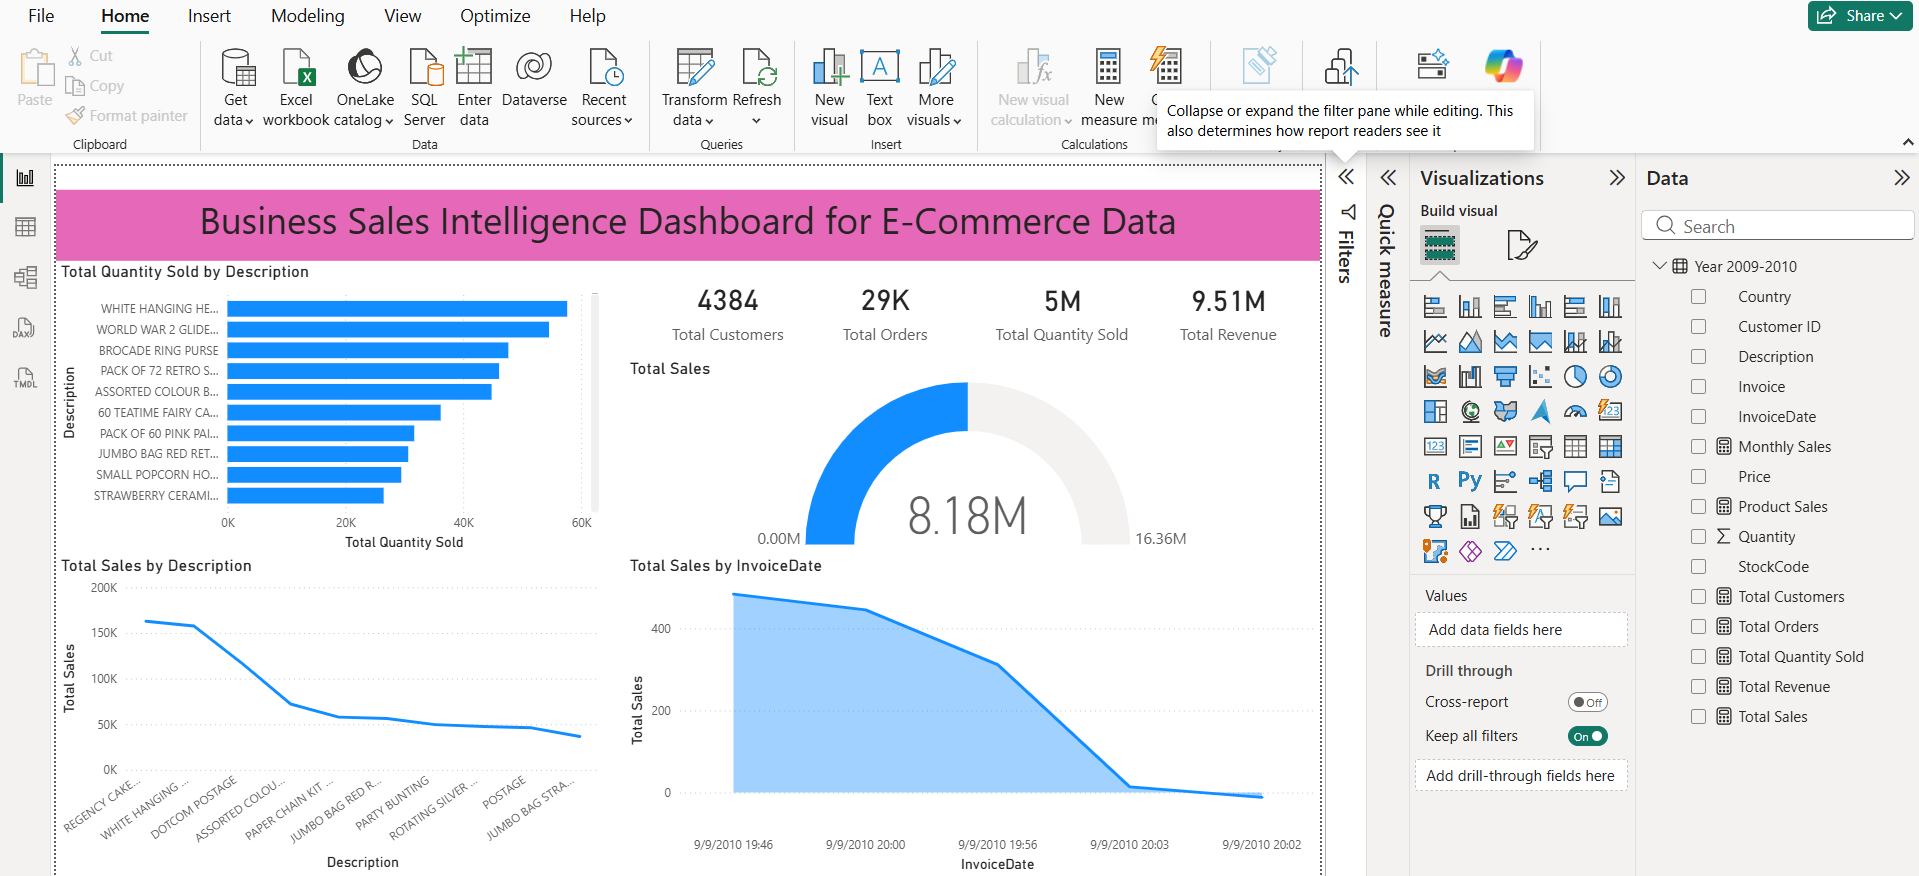

This screenshot's page, from the dashboard's own definition file:
{"tool":"powerbi","page":{"name":"Page 1","canvas":[1280,720],"ordinal":0},"visuals":[{"type":"card","fields":{"Values":["Year 2009-2010.Total Revenue"]},"box":[1095,96.3,185,99.3],"z":0},{"type":"card","fields":{"Values":["Year 2009-2010.Total Quantity Sold"]},"box":[931,96.3,174.5,99.3],"z":1},{"type":"card","fields":{"Values":["Year 2009-2010.Total Orders"]},"box":[728,94.8,224.1,100.8],"z":2},{"type":"card","fields":{"Values":["Year 2009-2010.Total Customers"]},"box":[576.1,94.8,209.1,100.8],"z":3},{"type":"textbox","box":[0,24.6,1280.3,72.3],"z":4},{"type":"lineChart","fields":{"Category":["Year 2009-2010.Description"],"Y":["Year 2009-2010.Total Sales"]},"box":[0,394.1,555,324.9],"z":5},{"type":"clusteredBarChart","fields":{"Category":["Year 2009-2010.Description"],"Y":["Year 2009-2010.Total Quantity Sold"]},"box":[0,96.3,555,297.8],"z":6},{"type":"stackedAreaChart","fields":{"Category":["Year 2009-2010.InvoiceDate"],"Y":["Year 2009-2010.Total Sales"]},"box":[576.1,394.1,703.9,326.4],"z":7},{"type":"gauge","fields":{"Y":["Year 2009-2010.Total Sales"]},"box":[576.1,195.5,703.9,198.5],"z":8}]}

Visuals, with their boxes on the page's 1280x720 design canvas (x1, y1, x2, y2). These are canvas units, not pixel positions in the 1919x876 screenshot, which may show the page scaled, cropped or inside an application window:
card - Year 2009-2010.Total Revenue: bbox=(1095, 96, 1280, 196)
card - Year 2009-2010.Total Quantity Sold: bbox=(931, 96, 1106, 196)
card - Year 2009-2010.Total Orders: bbox=(728, 95, 952, 196)
card - Year 2009-2010.Total Customers: bbox=(576, 95, 785, 196)
textbox: bbox=(0, 25, 1280, 97)
lineChart - Year 2009-2010.Description x Year 2009-2010.Total Sales: bbox=(0, 394, 555, 719)
clusteredBarChart - Year 2009-2010.Description x Year 2009-2010.Total Quantity Sold: bbox=(0, 96, 555, 394)
stackedAreaChart - Year 2009-2010.InvoiceDate x Year 2009-2010.Total Sales: bbox=(576, 394, 1280, 720)
gauge - Year 2009-2010.Total Sales: bbox=(576, 196, 1280, 394)
